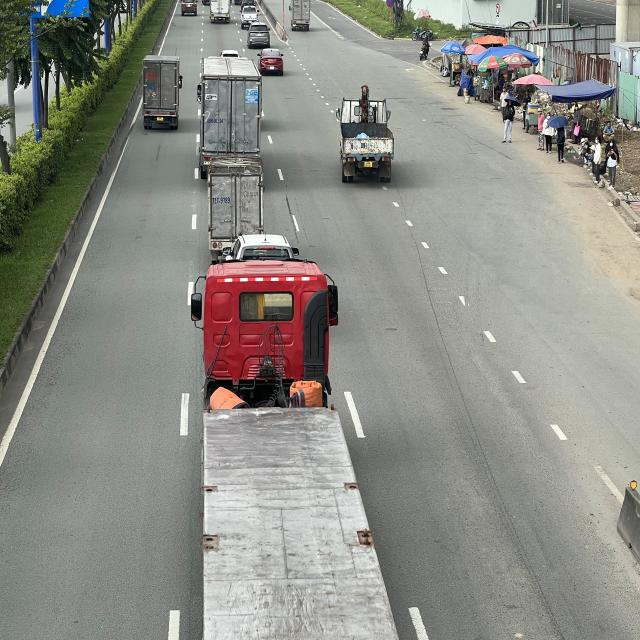car: (258, 49, 285, 76), (246, 24, 271, 46), (240, 3, 258, 26), (181, 0, 197, 17)
container: (192, 261, 399, 640)
truck: (200, 58, 263, 173), (336, 94, 395, 182), (208, 163, 264, 255), (142, 56, 182, 132), (290, 0, 312, 32), (208, 0, 232, 24)
